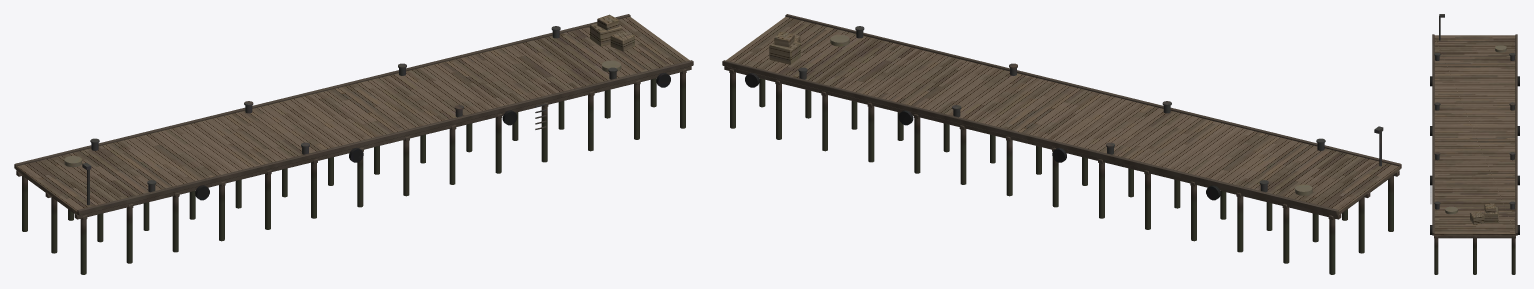
Rendered from a05_pier_a.glb.
3 views of the same model, side by side, from view 1: azimuth 30°, elevation 25°; view 2: azimuth 150°, elevation 25°; view 3: azimuth 270°, elevation 25° (orthographic). The views are drawn at different scales.
Parts seen in each view (by area): view 1: body; view 2: body; view 3: body.
Boxes of the visible parts, x1,y1,x2,y2 form: body: (14, 14, 693, 274); body: (722, 14, 1401, 274); body: (1430, 14, 1519, 274).
Size of the model in its own units: 1 by 0.1612 by 0.1915.
Materials: 1 (1 with a texture image).
